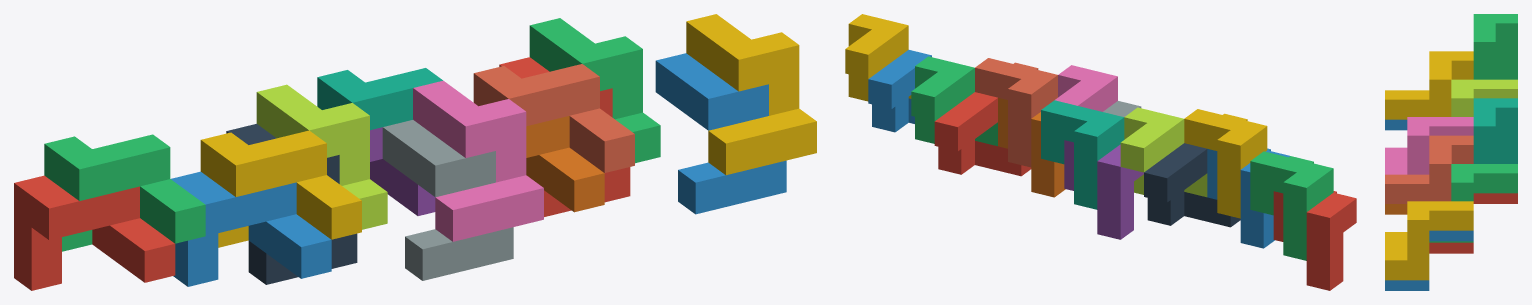
The model's file is tiling.obj.
3 views of the same model, side by side, from view 1: azimuth 30°, elevation 25°; view 2: azimuth 150°, elevation 25°; view 3: azimuth 270°, elevation 25° (orthographic). The views are drawn at different scales.
Visible parts, largest first — view 1: copy_2_domain_8, copy_2_domain_4, copy_1_domain_1, copy_1_domain_3, copy_1_domain_4, copy_1_domain_2, copy_2_domain_6, copy_2_domain_2, copy_1_domain_8, copy_2_domain_7, copy_2_domain_3, copy_1_domain_6 (+4 smaller); view 2: copy_1_domain_3, copy_1_domain_7, copy_1_domain_4, copy_1_domain_8, copy_2_domain_1, copy_2_domain_5, copy_1_domain_1, copy_2_domain_7, copy_2_domain_3, copy_2_domain_8, copy_1_domain_5, copy_2_domain_6 (+4 smaller); view 3: copy_2_domain_8, copy_1_domain_8, copy_1_domain_4, copy_1_domain_3, copy_1_domain_7, copy_2_domain_4, copy_2_domain_7, copy_2_domain_3, copy_2_domain_5, copy_2_domain_6, copy_1_domain_2, copy_1_domain_6.
Part boxes in pixels (bbox=[...]): copy_2_domain_8: bbox=[686, 14, 816, 175]; copy_2_domain_4: bbox=[413, 80, 543, 241]; copy_1_domain_1: bbox=[14, 175, 175, 290]; copy_1_domain_3: bbox=[44, 134, 205, 251]; copy_1_domain_4: bbox=[200, 130, 361, 247]; copy_1_domain_2: bbox=[171, 171, 331, 286]; copy_2_domain_6: bbox=[655, 53, 786, 214]; copy_2_domain_2: bbox=[382, 120, 513, 280]; copy_1_domain_8: bbox=[473, 64, 634, 172]; copy_2_domain_7: bbox=[529, 18, 660, 163]; copy_2_domain_3: bbox=[256, 84, 387, 229]; copy_1_domain_6: bbox=[526, 116, 604, 212]; copy_1_domain_3: bbox=[1250, 151, 1333, 260]; copy_1_domain_7: bbox=[1041, 100, 1124, 209]; copy_1_domain_4: bbox=[1184, 109, 1267, 218]; copy_1_domain_8: bbox=[975, 58, 1057, 167]; copy_2_domain_1: bbox=[1144, 143, 1240, 227]; copy_2_domain_5: bbox=[934, 92, 1031, 176]; copy_1_domain_1: bbox=[1273, 191, 1356, 290]; copy_2_domain_7: bbox=[911, 56, 997, 146]; copy_2_domain_3: bbox=[1120, 107, 1207, 197]; copy_2_domain_8: bbox=[845, 14, 911, 101]; copy_1_domain_5: bbox=[1064, 140, 1143, 239]; copy_2_domain_6: bbox=[868, 50, 931, 132]; copy_2_domain_8: bbox=[1385, 201, 1473, 280]; copy_1_domain_8: bbox=[1385, 135, 1473, 203]; copy_1_domain_4: bbox=[1385, 51, 1473, 119]; copy_1_domain_3: bbox=[1473, 14, 1517, 79]; copy_1_domain_7: bbox=[1473, 98, 1517, 163]; copy_2_domain_4: bbox=[1385, 117, 1473, 174]; copy_2_domain_7: bbox=[1429, 164, 1517, 242]; copy_2_domain_3: bbox=[1451, 79, 1517, 116]; copy_2_domain_5: bbox=[1429, 193, 1517, 253]; copy_2_domain_6: bbox=[1385, 230, 1473, 290]; copy_1_domain_2: bbox=[1385, 119, 1407, 130]; copy_1_domain_6: bbox=[1385, 204, 1407, 214].
Size of the model in its own units: 23 by 4 by 6.
